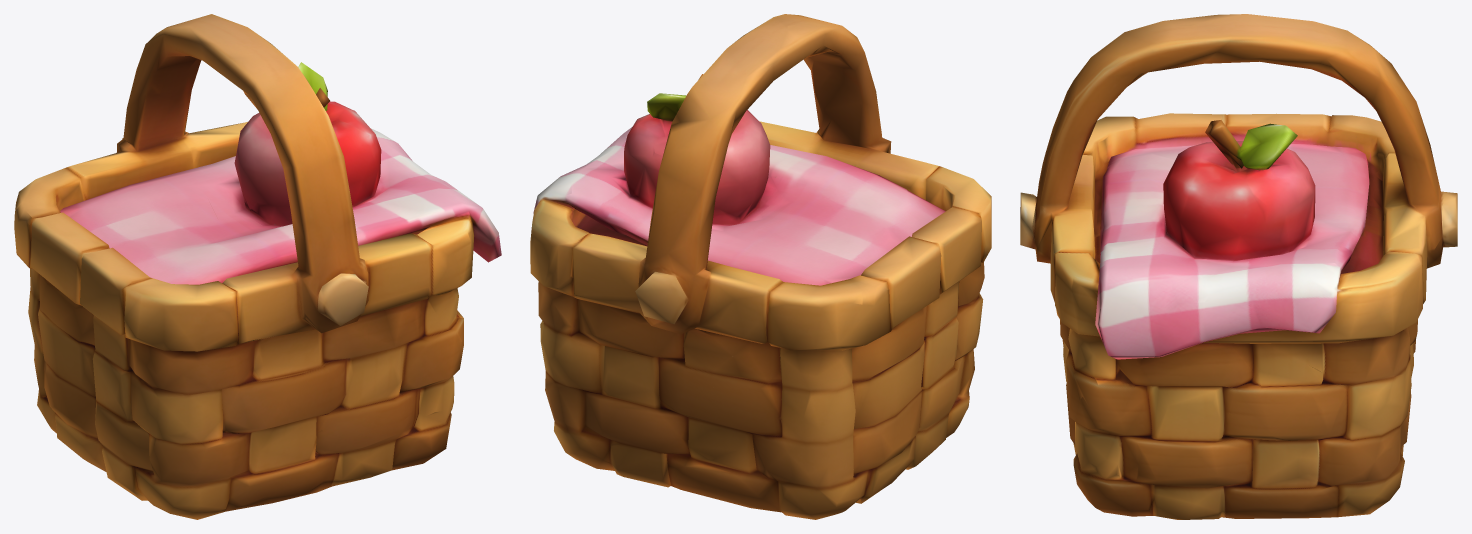
The model's file is Kit_M_PicnicBasket_raw.glb.
3 views of the same model, side by side, from view 1: azimuth 30°, elevation 25°; view 2: azimuth 150°, elevation 25°; view 3: azimuth 270°, elevation 25° (orthographic). The views are drawn at different scales.
Visible parts, largest first — view 1: tripo_node_5a059e06-4e10-415d-95c4-0ee219b61e53; view 2: tripo_node_5a059e06-4e10-415d-95c4-0ee219b61e53; view 3: tripo_node_5a059e06-4e10-415d-95c4-0ee219b61e53.
Boxes of the visible parts, x1,y1,x2,y2 form: tripo_node_5a059e06-4e10-415d-95c4-0ee219b61e53: (14,14,501,519); tripo_node_5a059e06-4e10-415d-95c4-0ee219b61e53: (530,14,991,519); tripo_node_5a059e06-4e10-415d-95c4-0ee219b61e53: (1020,14,1457,519).
Bounding box in the file's own units: 0.9617 × 1 × 0.9313.
1 material, 1 textured.
